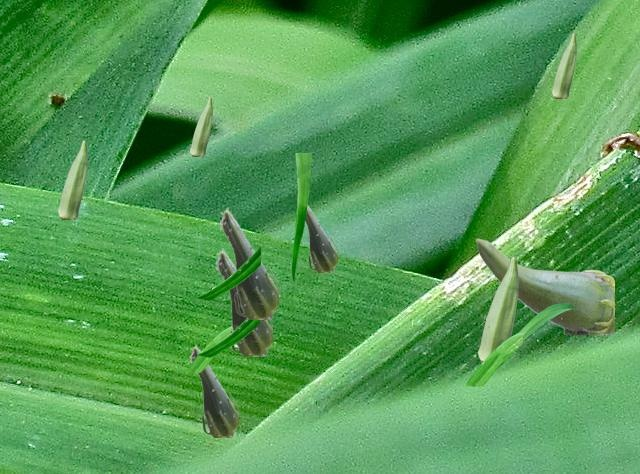okra: (475, 238, 613, 333), (219, 207, 277, 318), (215, 248, 271, 355), (189, 344, 237, 436), (478, 256, 517, 363), (58, 140, 86, 218), (306, 206, 336, 271), (552, 33, 575, 97), (190, 96, 211, 155)
